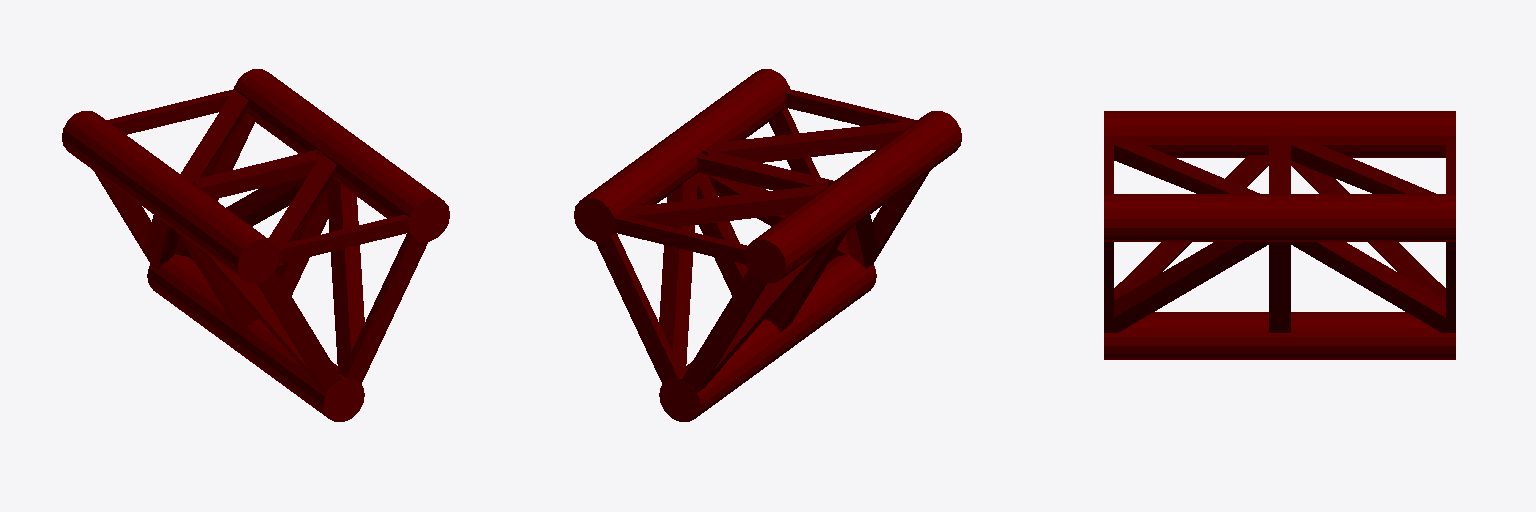
The model's file is intamin_lift.obj.
3 views of the same model, side by side, from view 1: azimuth 30°, elevation 25°; view 2: azimuth 150°, elevation 25°; view 3: azimuth 270°, elevation 25° (orthographic).
Bounding box in the file's own units: 1.15 × 1.05 × 1.65.